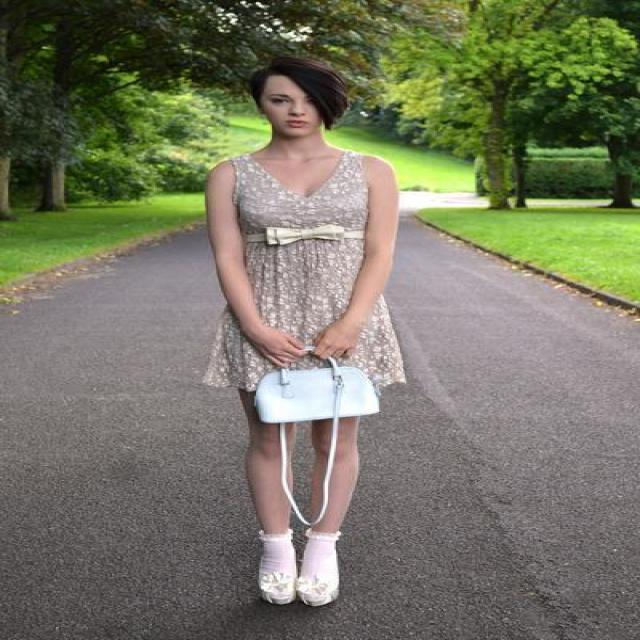bag: (250, 358, 378, 422)
dress: (196, 145, 418, 394)
shoe: (259, 525, 341, 604)
